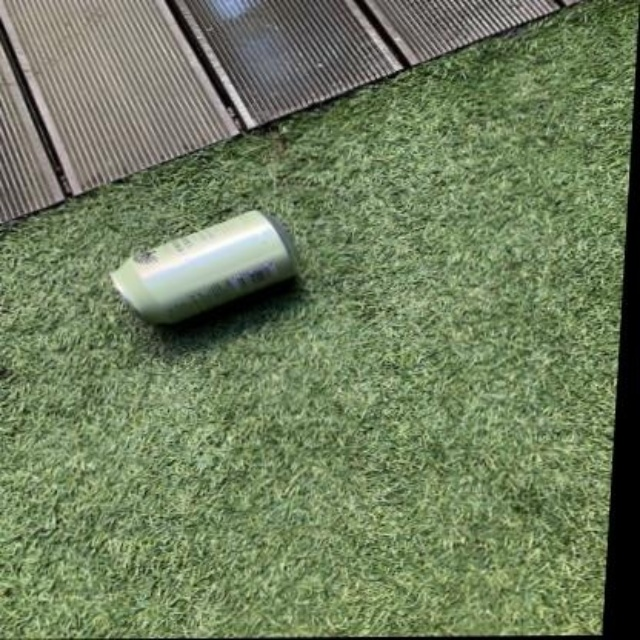trash: (111, 211, 294, 322)
